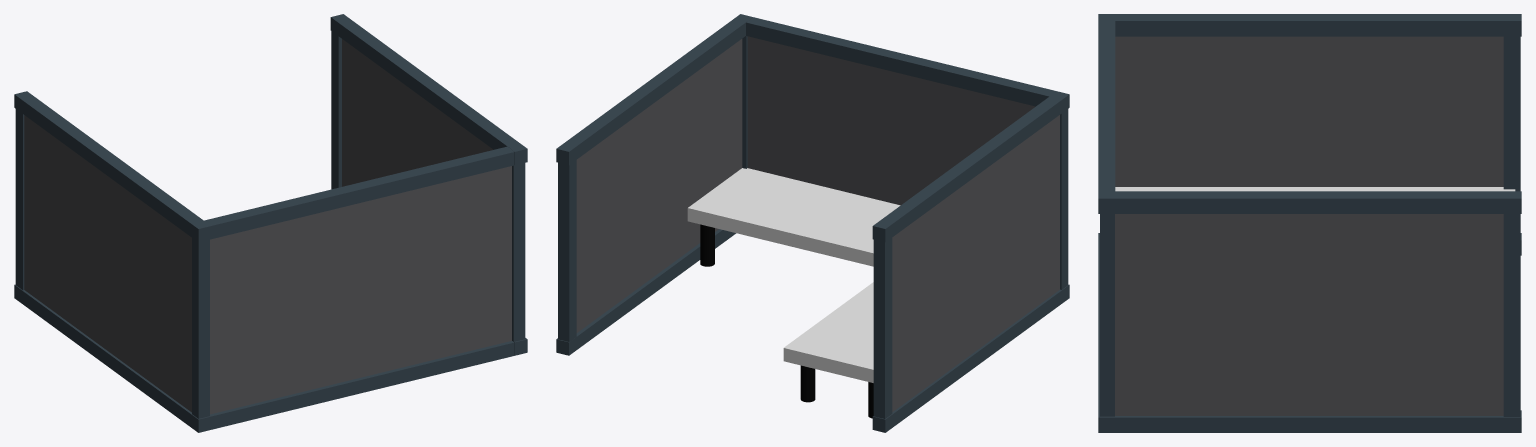
File: cubicle.fbx
3 views of the same model, side by side, from view 1: azimuth 30°, elevation 25°; view 2: azimuth 150°, elevation 25°; view 3: azimuth 270°, elevation 25° (orthographic). The views are drawn at different scales.
Parts seen in each view (by area): view 1: Cube.002, Cube.004, Cube.003, Cube.010, Cube.007, Cube.009, Cube.008, Cube.011, Cube.006, Cube.012, Cube.014, Cube.013; view 2: Cube.004, Cube.002, Cube.003, Cube.001, Cube.010, Cube.005, Cube.007, Cube.008, Cube.014, Cube.013, Cube.006, Cube (+4 smaller); view 3: Cube.003, Cube.004, Cube.008, Cube.007, Cube, Cube.013, Cube.010, Cube.012, Cube.014, Cube.005.
Part boxes in pixels (x1,y1,x2,y2): Cube.002: (210,166,511,414); Cube.004: (24,115,191,412); Cube.003: (342,39,493,186); Cube.010: (204,146,514,239); Cube.007: (14,91,211,242); Cube.009: (210,341,514,429); Cube.008: (330,14,527,164); Cube.011: (192,238,209,418); Cube.006: (14,284,211,432); Cube.012: (512,163,525,341); Cube.014: (15,109,24,290); Cube.013: (331,31,341,189); Cube.004: (892,115,1059,411); Cube.002: (747,36,1035,205); Cube.003: (576,39,742,332); Cube.001: (687,168,900,266); Cube.010: (746,17,1056,106); Cube.005: (783,282,873,382); Cube.007: (872,91,1069,242); Cube.008: (556,14,752,164); Cube.014: (873,238,892,418); Cube.013: (558,160,576,341); Cube.006: (872,284,1069,432); Cube: (556,229,735,355); Cube.003: (1115,214,1503,415); Cube.004: (1115,36,1503,186); Cube.008: (1098,191,1521,213); Cube.007: (1098,14,1521,36); Cube: (1098,410,1521,432); Cube.013: (1503,214,1520,416); Cube.010: (1098,21,1115,191); Cube.012: (1100,214,1114,416); Cube.014: (1503,36,1520,191); Cube.005: (1115,187,1515,191).
Size of the model in its own units: 516 by 305 by 500.
